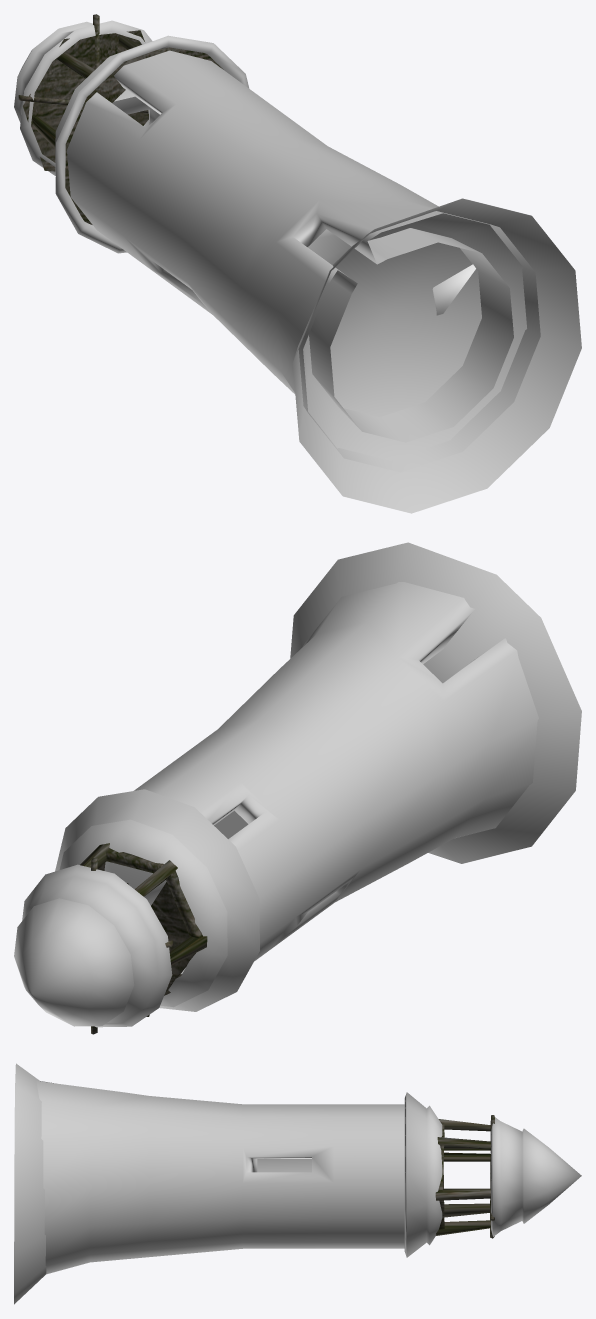
File: TI_Tower_Coll.fbx
3 renders of one model, top to bottom at view 1: azimuth 30°, elevation 25°; view 2: azimuth 150°, elevation 25°; view 3: azimuth 270°, elevation 25°, orthographic. The views are drawn at different scales.
Visible parts, largest first — view 1: TI_Tower_Coll; view 2: TI_Tower_Coll; view 3: TI_Tower_Coll.
Boxes of the visible parts, x1=… form: TI_Tower_Coll: x1=14, y1=14, x2=581, y2=513; TI_Tower_Coll: x1=14, y1=542, x2=581, y2=1034; TI_Tower_Coll: x1=14, y1=1063, x2=581, y2=1304.
Bounding box in the file's own units: 17.81 × 17.81 × 42.74.
